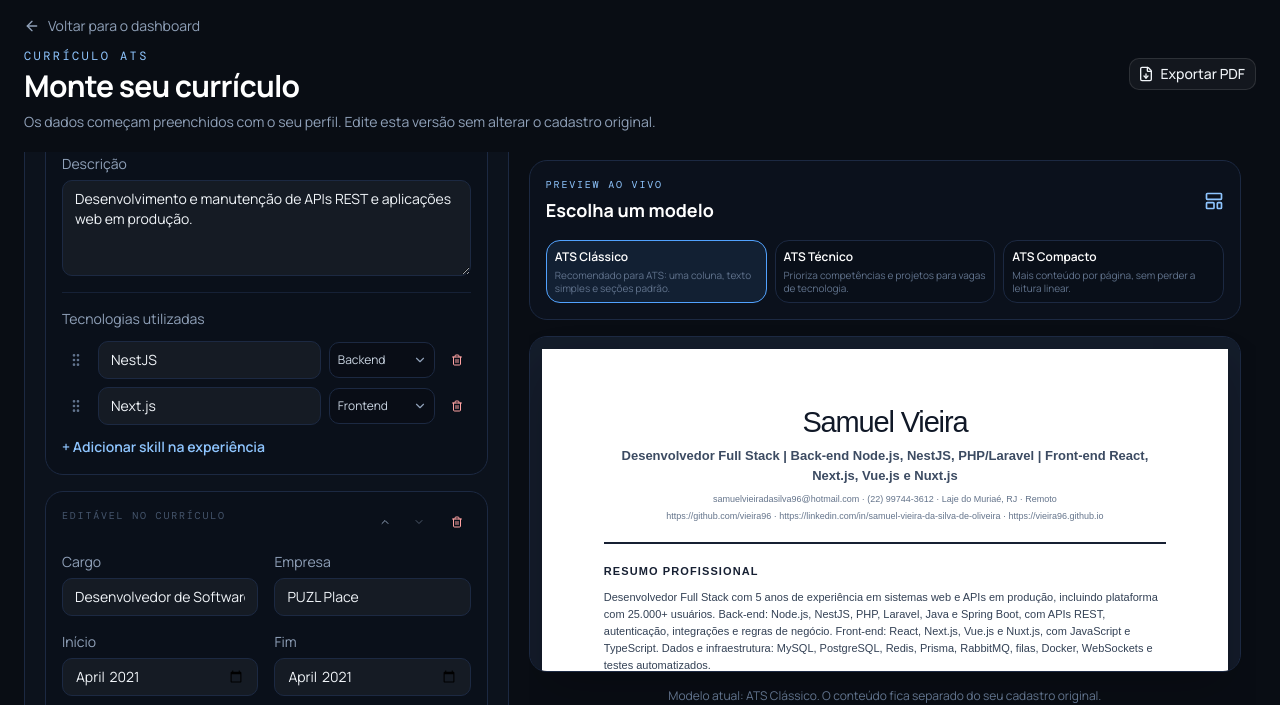
Test: ResumeEditor › allows editing and adding skills to an experience
(page scrolled)
Replace the text in the 1st field named "Skill da experiência" with "NestJS 12": (209, 360) [98, 341, 321, 379]
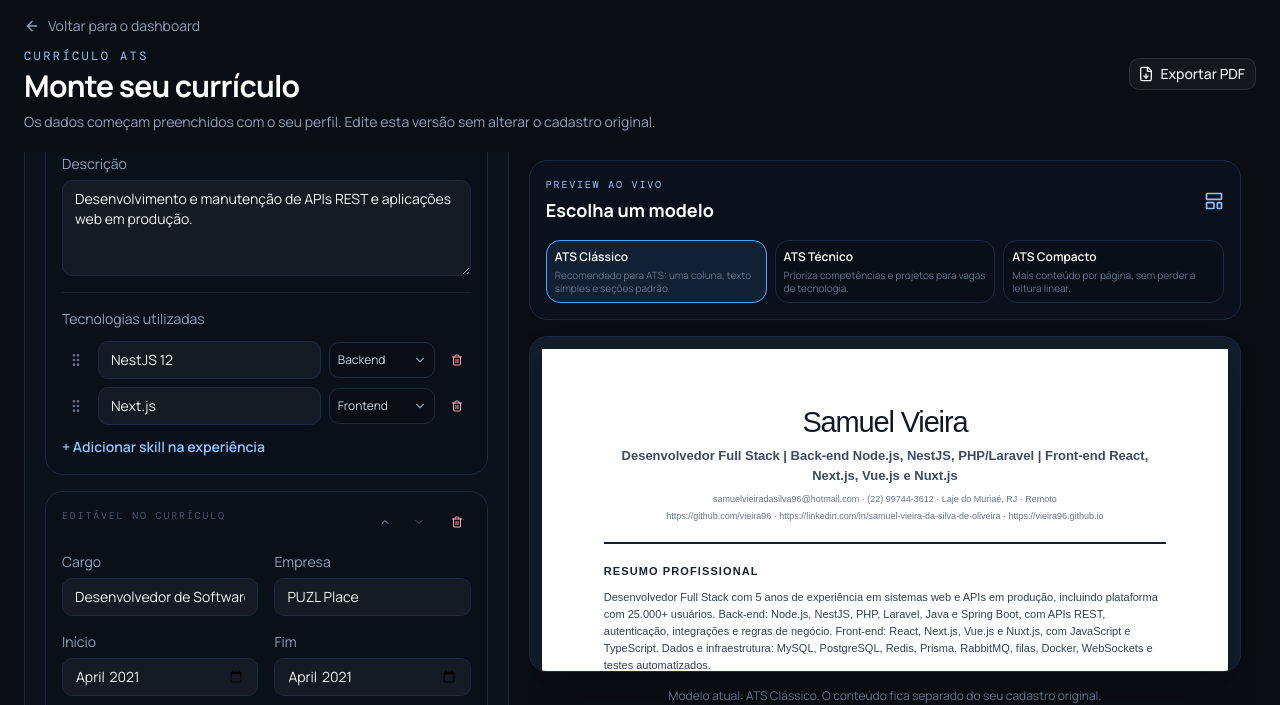
Click the button "+ Adicionar skill na experiência": (164, 447) [62, 437, 265, 457]
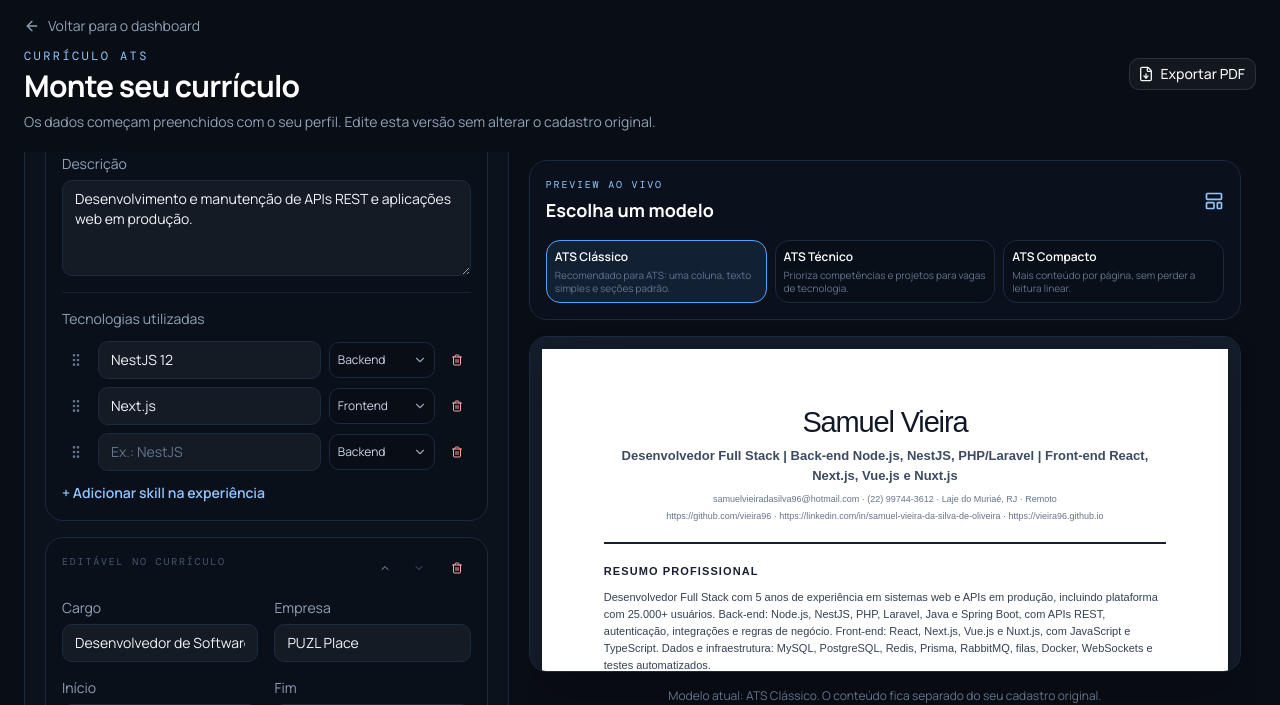
Expected: the number of fields named "Skill da experiência" is 5
